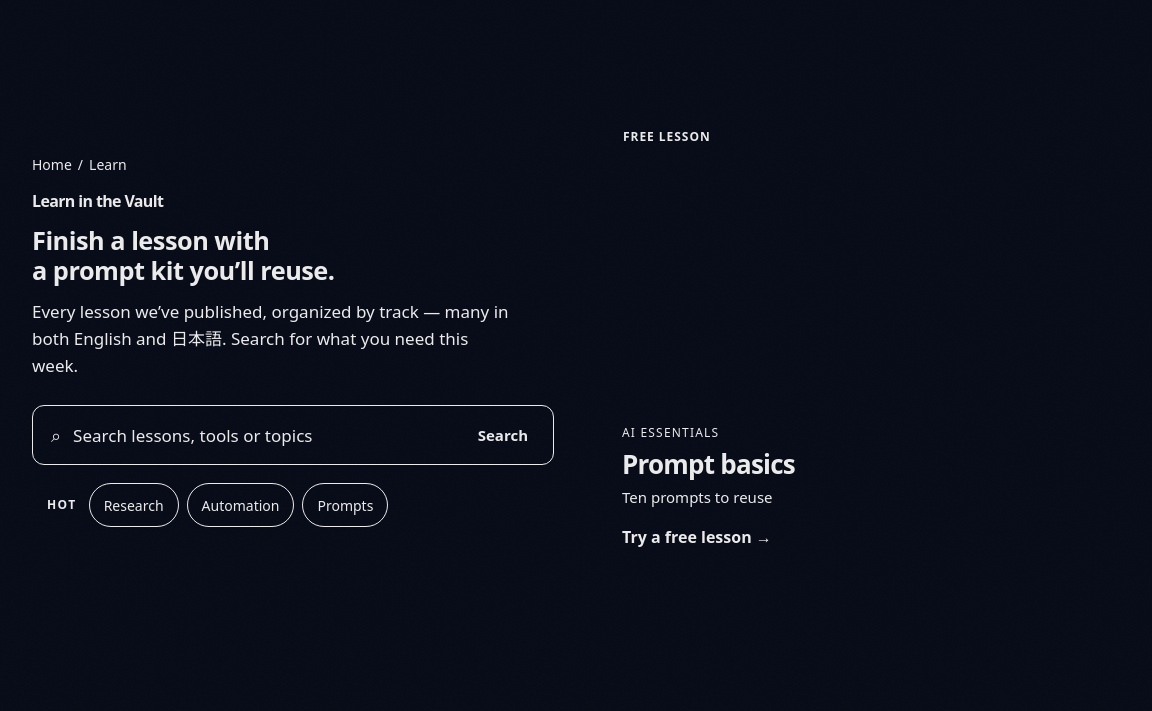
Test: Learn catalog filtering › submitting a search filters the grid and writes ?q=
Step 1. Type "SEO" into the search field labelled "Search lessons" → (261, 435), box x1=73 y1=407 x2=449 y2=463
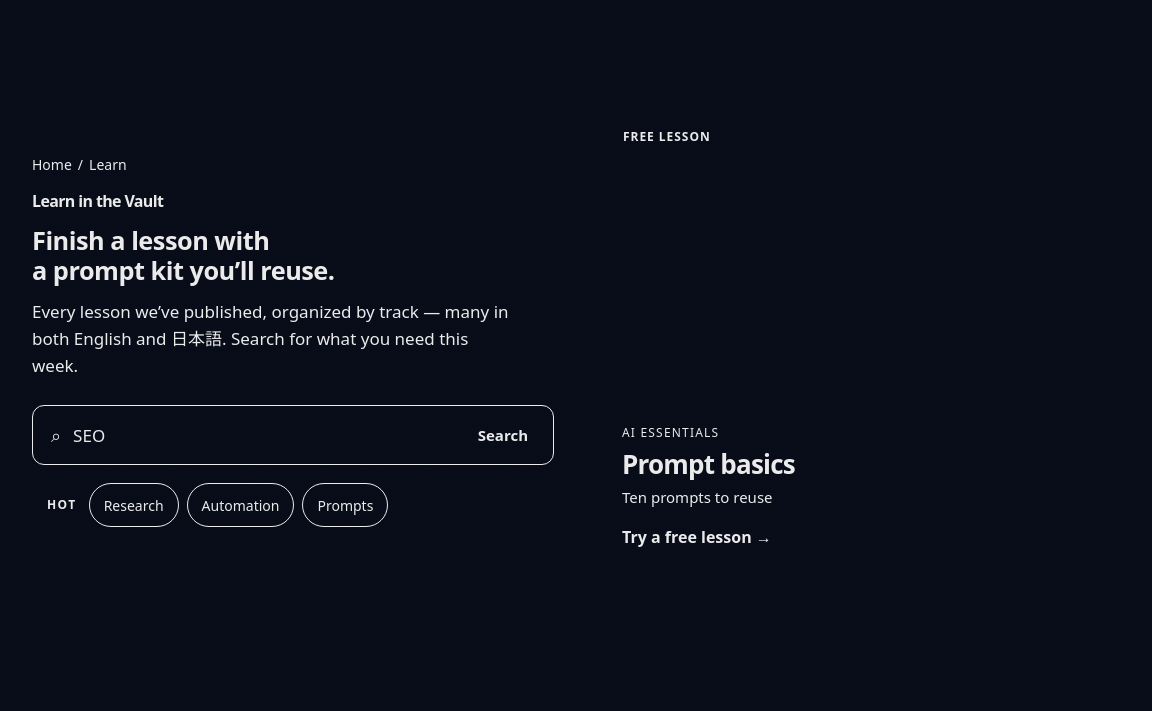
Step 2. Submit the form, box x1=32 y1=405 x2=554 y2=465
(page scrolled)
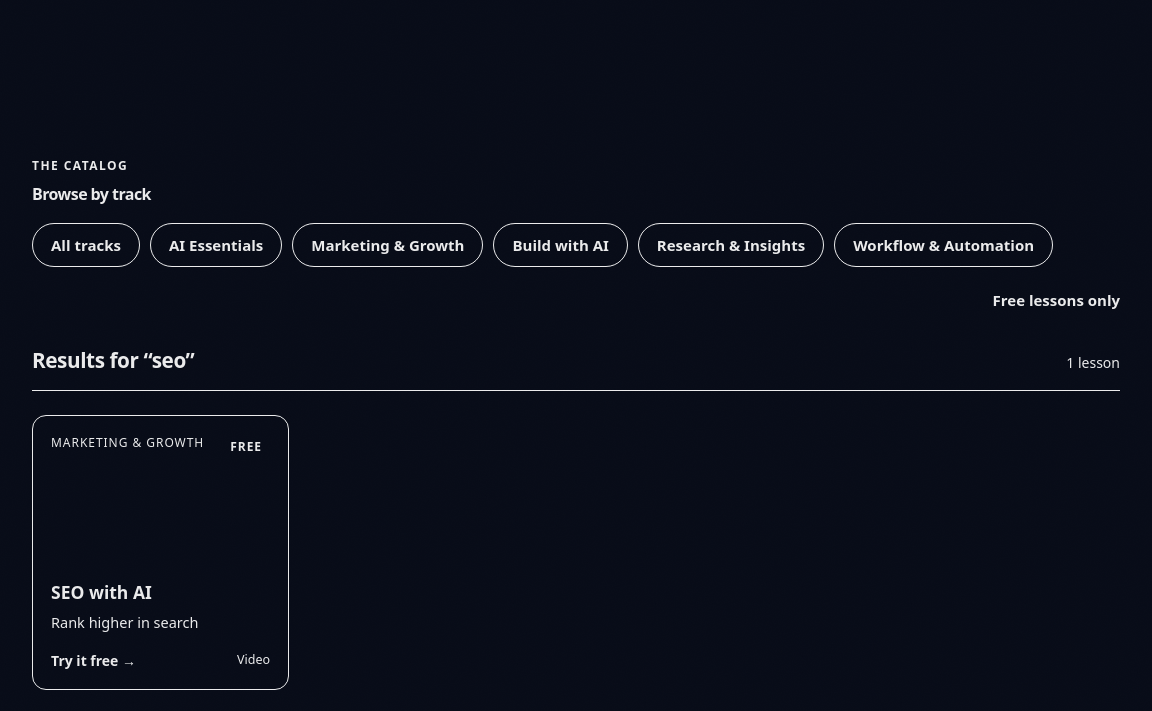
Now the text "Results for “seo”" is shown, box x1=32 y1=345 x2=194 y2=376
